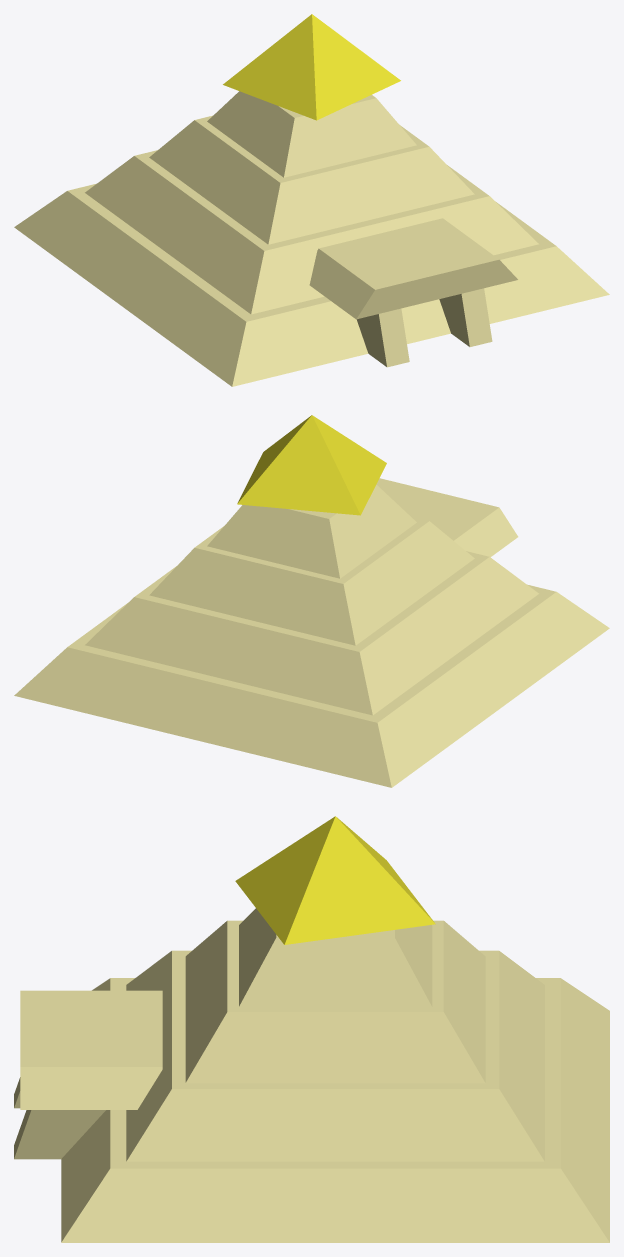
The model's file is pryamid_teir3.fbx.
3 views of the same model, one above another, from view 1: azimuth 30°, elevation 25°; view 2: azimuth 150°, elevation 25°; view 3: azimuth 270°, elevation 25° (orthographic). The views are drawn at different scales.
Visible parts, largest first — view 1: Cube.003, Cube.004; view 2: Cube.003, Cube.004; view 3: Cube.003, Cube.004.
Boxes of the visible parts, <box> form: Cube.003: <box>14,91,609,386</box>; Cube.004: <box>223,14,400,120</box>; Cube.003: <box>14,478,609,787</box>; Cube.004: <box>237,415,386,515</box>; Cube.003: <box>14,908,609,1242</box>; Cube.004: <box>235,816,435,944</box>.
Size of the model in its own units: 537 by 335 by 583.
